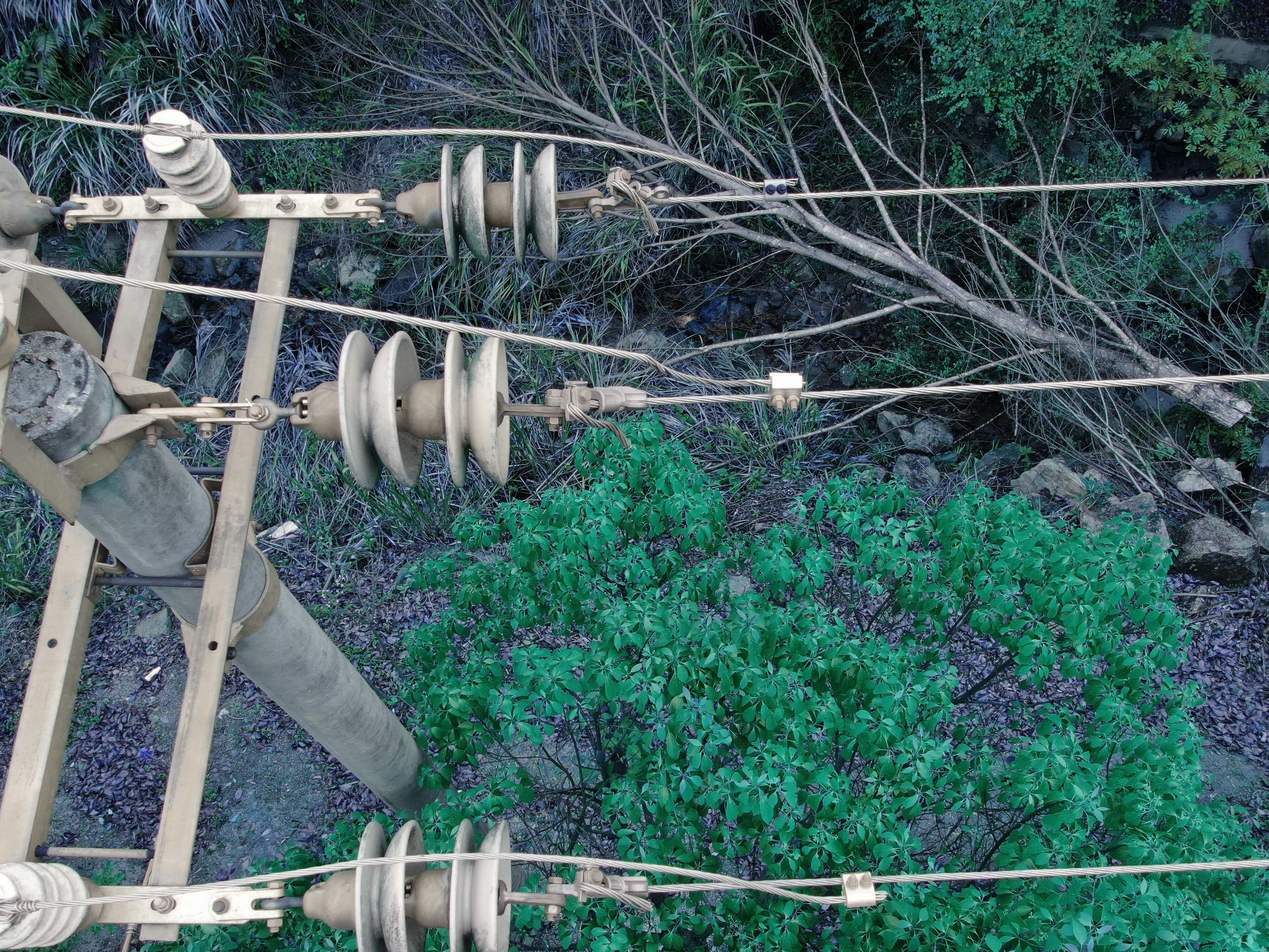severe_soiling_no_discharge_whole: (289, 319, 524, 495), (301, 809, 520, 951), (392, 131, 569, 273), (139, 106, 240, 221), (1, 858, 107, 951), (2, 153, 59, 273)
